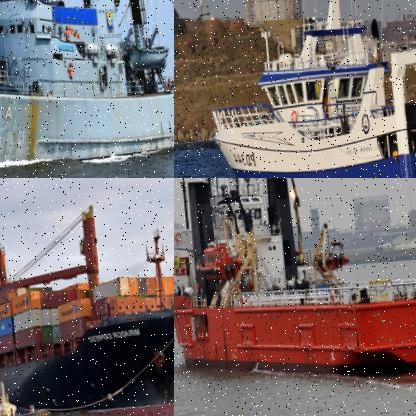Fishing Boat: (193, 0, 415, 177)
Merchant Ship: (174, 178, 415, 390), (0, 195, 173, 415)
Military Ship: (0, 0, 173, 177)
Tugboat: (0, 360, 51, 415)
